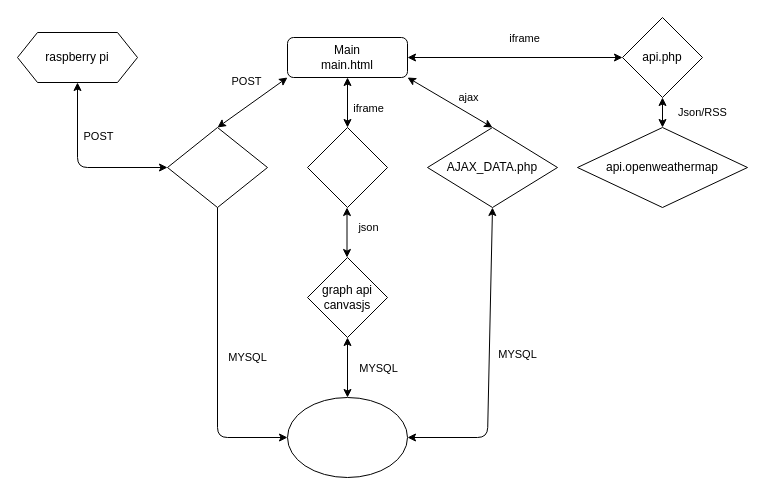
Image size: 765x495. Some labels were removed from this diagram. The shapes that lost their labels are listed below. From the top down, each one's centre as x and y in pixels, then its label:
At point 217,167: "add Data request.php".
At point 347,167: "steal.php".
At point 347,437: "Data base".
